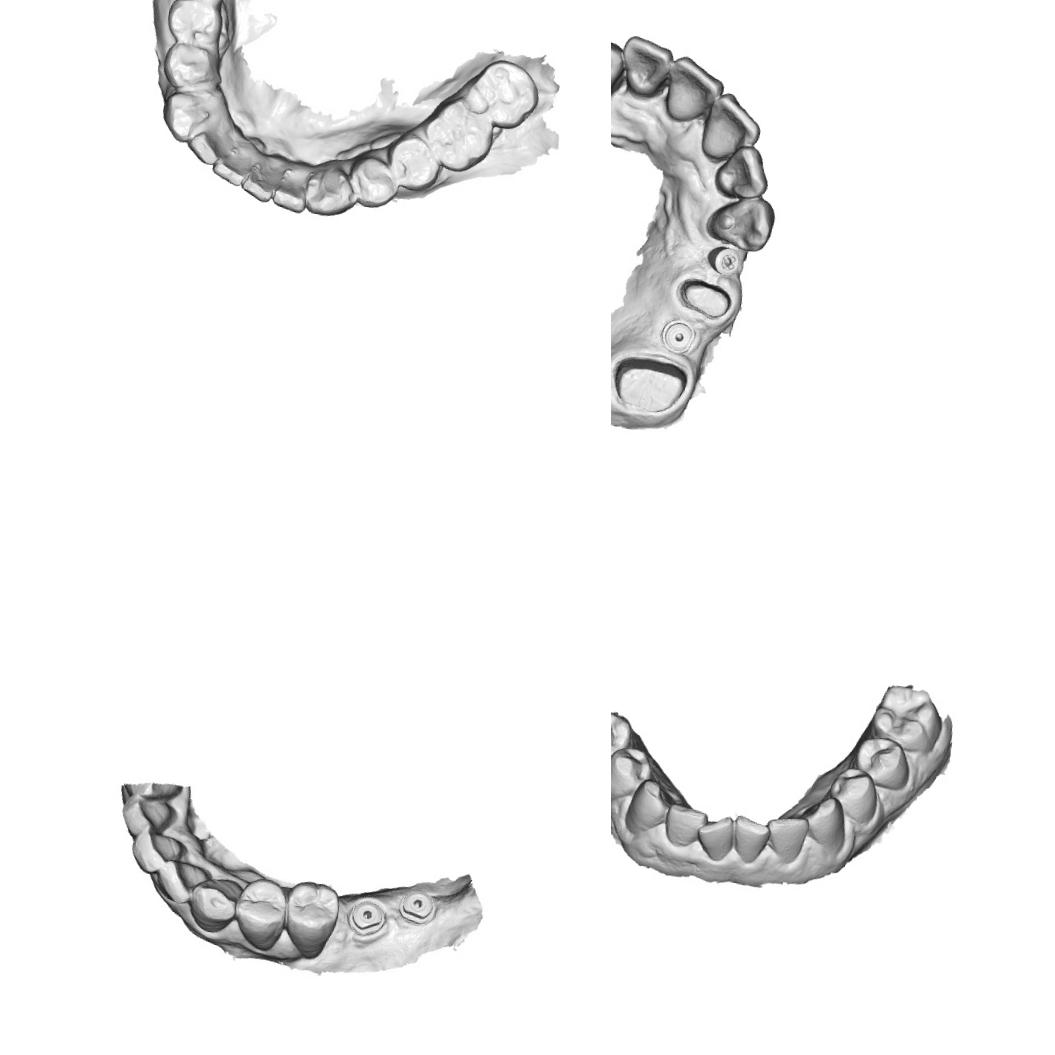canine: (156, 83, 232, 150), (705, 190, 778, 255), (183, 870, 247, 938), (300, 155, 360, 222), (620, 772, 679, 838), (800, 792, 853, 856), (611, 33, 629, 113)
crown: (611, 351, 690, 417), (673, 276, 733, 322)
implant: (395, 884, 440, 930), (345, 894, 390, 940), (657, 316, 697, 356)
implant_plus: (704, 243, 742, 277)
incisor: (697, 88, 766, 164), (662, 52, 728, 128), (616, 32, 676, 102), (711, 140, 774, 204), (151, 856, 216, 912), (125, 826, 190, 880), (116, 790, 180, 844), (267, 151, 316, 216), (690, 807, 740, 867), (725, 812, 774, 870), (210, 134, 260, 190), (660, 798, 710, 853), (762, 810, 810, 865), (185, 122, 239, 170), (238, 153, 283, 207)
molar: (454, 52, 546, 133), (415, 92, 500, 178), (866, 678, 948, 756)
premolar: (276, 876, 348, 966), (227, 871, 294, 957), (160, 34, 226, 100), (382, 129, 446, 195), (850, 732, 916, 795), (826, 763, 886, 828), (344, 150, 402, 213), (164, 0, 230, 53), (611, 741, 656, 809), (611, 705, 635, 772)
